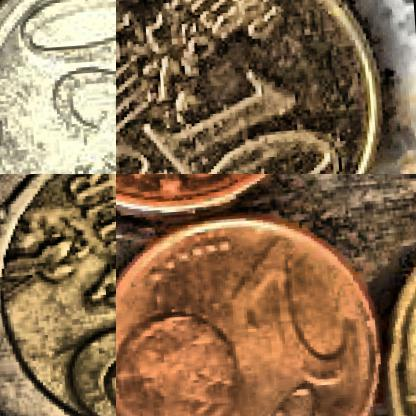coin: (116, 208, 390, 415), (116, 0, 398, 173), (0, 174, 115, 415), (0, 0, 115, 173)
